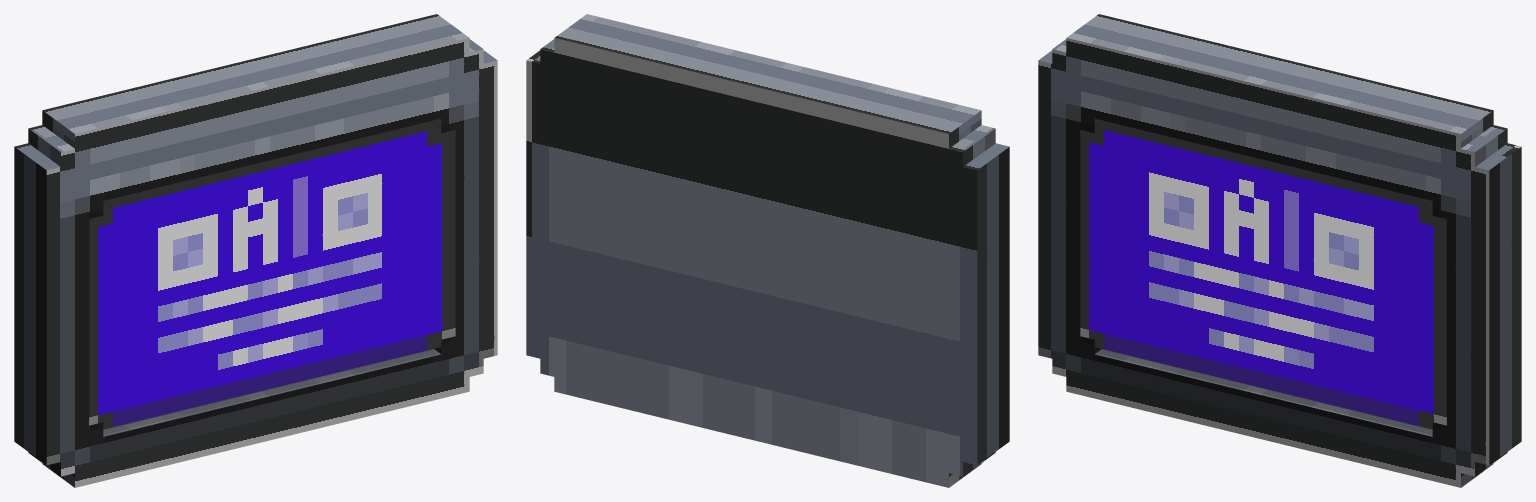
Rendered from status_display_ai_dead.glb.
The picture shows the model from 3 angles, left to right: view 1: azimuth 30°, elevation 25°; view 2: azimuth 150°, elevation 25°; view 3: azimuth 330°, elevation 25°; orthographic projection.
Parts seen in each view (by area): view 1: Continuous_Frame, Picture_Overlay, Recessed_Glass; view 2: Continuous_Frame; view 3: Continuous_Frame, Picture_Overlay, Recessed_Glass.
Boxes of the visible parts, bbox=[...] form: Continuous_Frame: bbox=[14, 14, 497, 487]; Picture_Overlay: bbox=[89, 118, 455, 429]; Recessed_Glass: bbox=[103, 347, 440, 436]; Continuous_Frame: bbox=[526, 14, 1009, 487]; Continuous_Frame: bbox=[1038, 14, 1521, 487]; Picture_Overlay: bbox=[1080, 118, 1446, 429]; Recessed_Glass: bbox=[1095, 347, 1432, 435].
Bounding box in the file's own units: 0.9 × 0.675 × 0.1129.
Materials: 3 (3 with a texture image).
